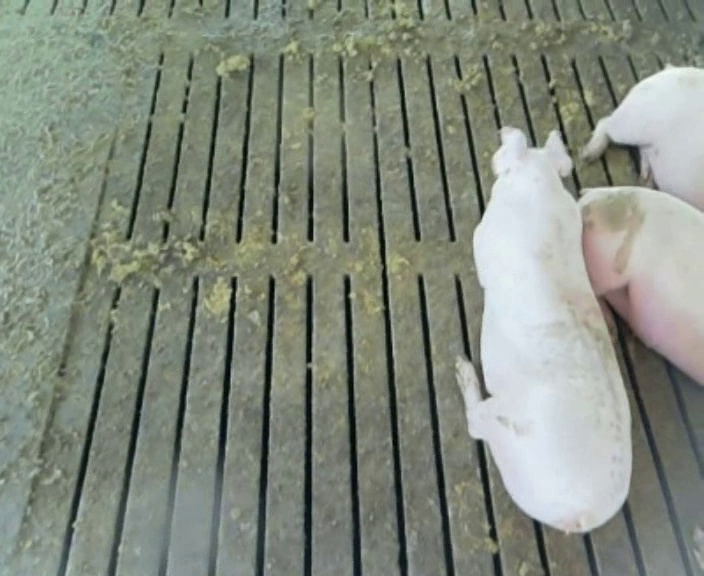pig: (457, 127, 628, 531), (579, 187, 703, 384), (582, 67, 703, 210)
